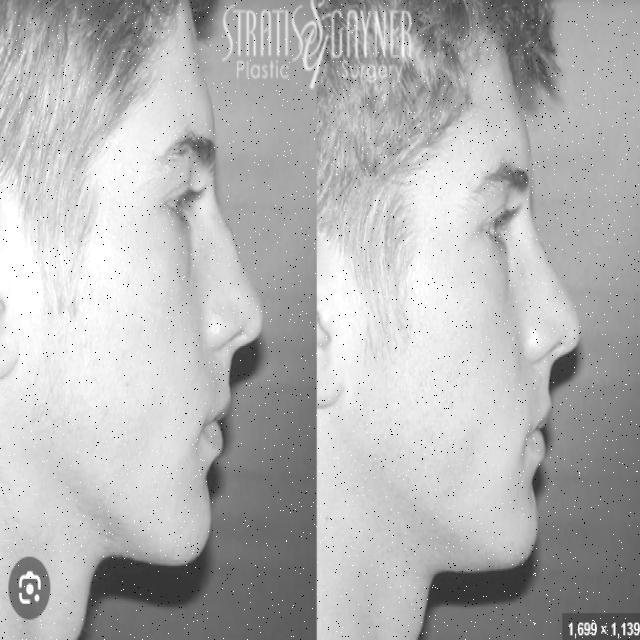face_no_mask: (319, 0, 587, 587), (1, 9, 265, 573)
